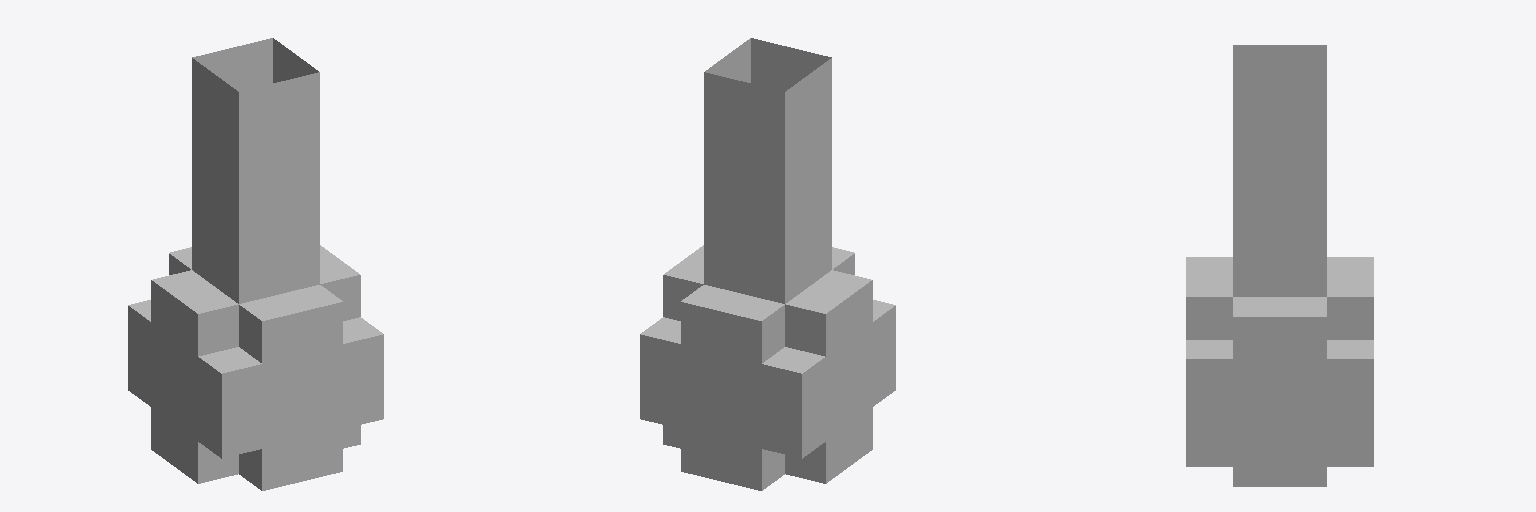
File: bud.obj
3 views of the same model, side by side, from view 1: azimuth 30°, elevation 25°; view 2: azimuth 150°, elevation 25°; view 3: azimuth 270°, elevation 25° (orthographic).
Parts seen in each view (by area): view 1: model; view 2: model; view 3: model.
Boxes of the visible parts, <box> form: model: <box>128,38,383,490</box>; model: <box>640,38,895,490</box>; model: <box>1186,45,1373,486</box>.
Size of the model in its own units: 0.25 by 0.5625 by 0.25.